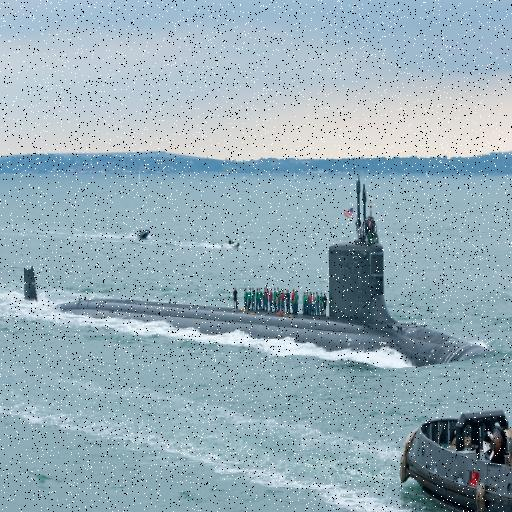submarine: (23, 169, 487, 368)
